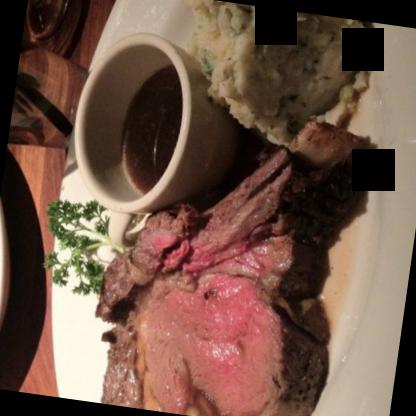beef: (88, 103, 378, 415)
